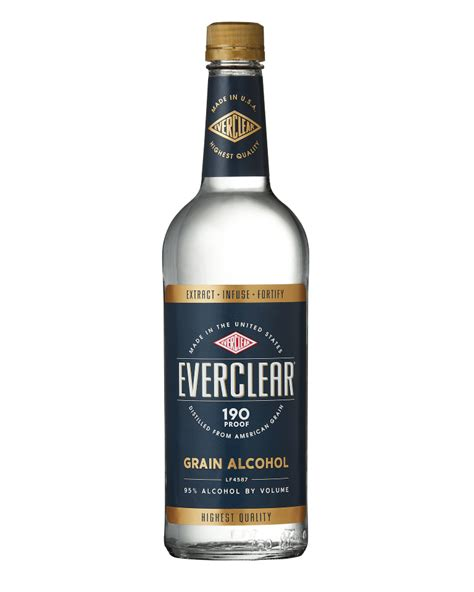alcohol: (158, 20, 312, 561)
